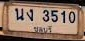txt05: (26, 8, 34, 22)
txt20: (14, 7, 25, 21)
